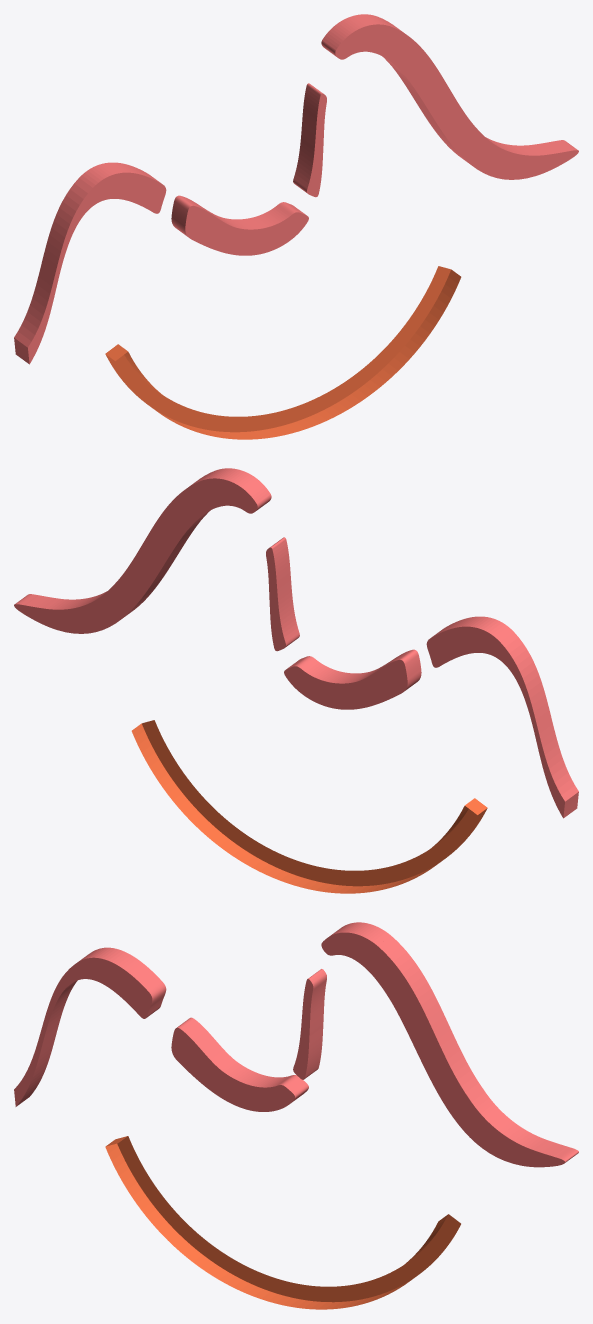
Rendered from add_sweep_red.glb.
3 renders of one model, top to bottom at view 1: azimuth 30°, elevation 25°; view 2: azimuth 150°, elevation 25°; view 3: azimuth 330°, elevation 25°, orthographic.
Visible parts, largest first — view 1: shape_03, virtual_sweep_red, shape_00, shape_01, shape_02; view 2: shape_03, virtual_sweep_red, shape_00, shape_01, shape_02; view 3: shape_03, virtual_sweep_red, shape_00, shape_01, shape_02.
Part boxes in pixels (x1=…): shape_03: x1=321, y1=14, x2=578, y2=179; virtual_sweep_red: x1=105, y1=266, x2=461, y2=439; shape_00: x1=14, y1=162, x2=166, y2=364; shape_01: x1=171, y1=195, x2=308, y2=255; shape_02: x1=293, y1=83, x2=326, y2=197; shape_03: x1=14, y1=468, x2=271, y2=633; virtual_sweep_red: x1=131, y1=720, x2=487, y2=893; shape_00: x1=426, y1=616, x2=578, y2=818; shape_01: x1=284, y1=649, x2=421, y2=709; shape_02: x1=266, y1=537, x2=299, y2=651; shape_03: x1=321, y1=922, x2=578, y2=1167; virtual_sweep_red: x1=105, y1=1136, x2=460, y2=1309; shape_00: x1=14, y1=947, x2=166, y2=1106; shape_01: x1=171, y1=1017, x2=308, y2=1111; shape_02: x1=293, y1=969, x2=326, y2=1079.
Size of the model in its own units: 6.9 by 4.67 by 0.3.
